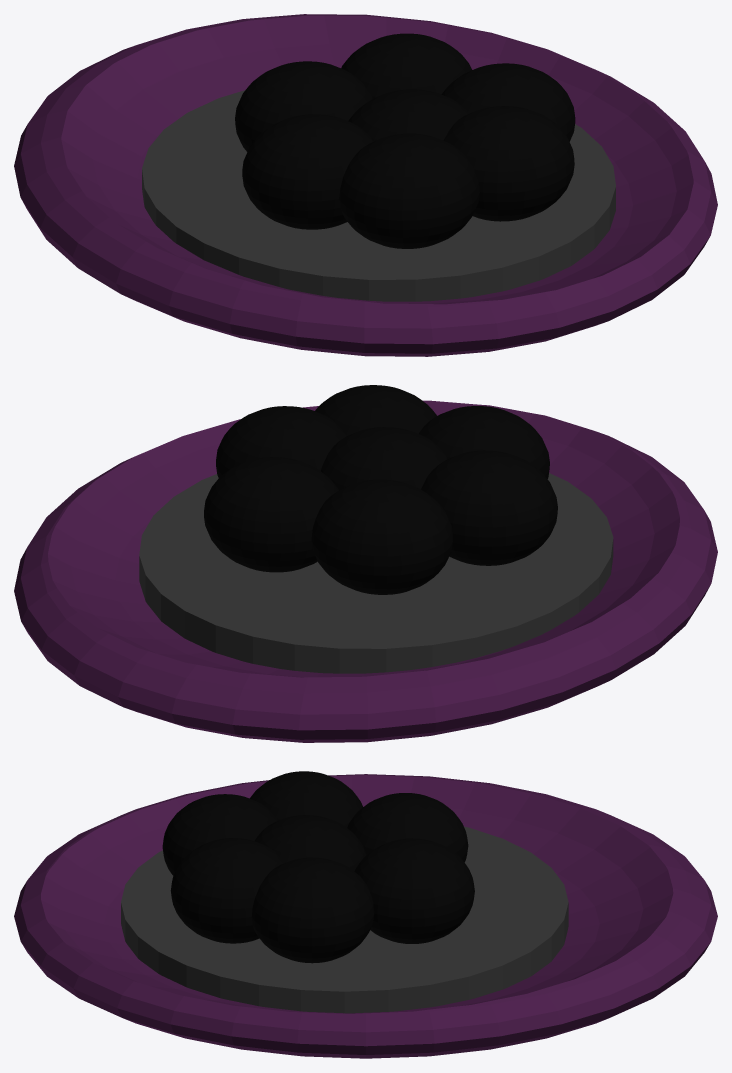
The model's file is ObjectFilledPitFurnace.dae.
3 renders of one model, top to bottom at view 1: azimuth 30°, elevation 25°; view 2: azimuth 150°, elevation 25°; view 3: azimuth 270°, elevation 25°, orthographic. The views are drawn at different scales.
Parts seen in each view (by area): view 1: Sphere, Cylinder, Sphere.006, Sphere.001, Sphere.007, Sphere.002, Sphere.003, Sphere.005, Sphere.004; view 2: Sphere, Cylinder, Sphere.002, Sphere.001, Sphere.003, Sphere.005, Sphere.004, Sphere.006, Sphere.007; view 3: Sphere, Cylinder, Sphere.005, Sphere.003, Sphere.007, Sphere.002, Sphere.006, Sphere.001, Sphere.004.
Part boxes in pixels (bbox=[...]): Sphere: bbox=[14, 14, 717, 356]; Cylinder: bbox=[142, 90, 615, 301]; Sphere.006: bbox=[339, 133, 479, 248]; Sphere.001: bbox=[242, 114, 373, 229]; Sphere.007: bbox=[443, 106, 574, 221]; Sphere.002: bbox=[235, 61, 372, 151]; Sphere.003: bbox=[341, 33, 471, 98]; Sphere.005: bbox=[441, 63, 575, 141]; Sphere.004: bbox=[348, 89, 468, 141]; Sphere: bbox=[14, 400, 717, 742]; Cylinder: bbox=[139, 473, 613, 673]; Sphere.002: bbox=[311, 479, 452, 594]; Sphere.001: bbox=[421, 450, 557, 565]; Sphere.003: bbox=[204, 457, 338, 572]; Sphere.005: bbox=[216, 406, 346, 477]; Sphere.004: bbox=[321, 427, 446, 490]; Sphere.006: bbox=[419, 406, 549, 478]; Sphere.007: bbox=[315, 385, 436, 436]; Sphere: bbox=[14, 774, 717, 1058]; Cylinder: bbox=[121, 826, 568, 1013]; Sphere.005: bbox=[251, 857, 374, 963]; Sphere.003: bbox=[354, 838, 474, 943]; Sphere.007: bbox=[170, 838, 284, 943]; Sphere.002: bbox=[347, 793, 468, 862]; Sphere.006: bbox=[162, 794, 277, 875]; Sphere.001: bbox=[250, 771, 362, 827]; Sphere.004: bbox=[254, 815, 366, 871].
Size of the model in its own units: 3.01 by 3.45 by 0.8523.
